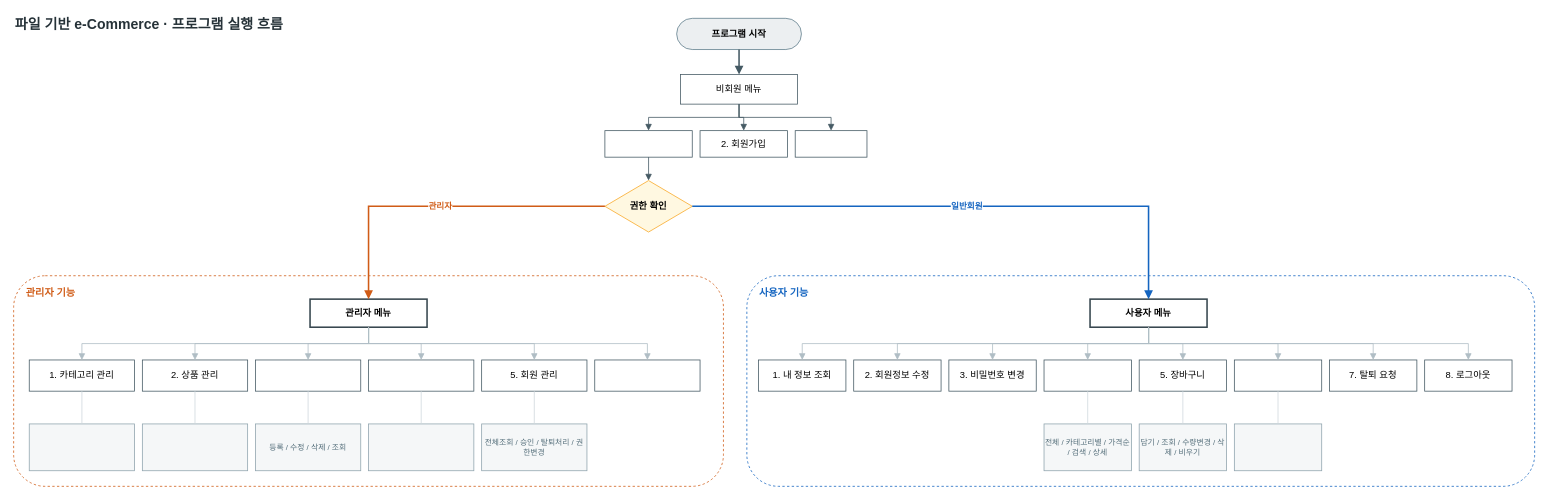
Image size: 1548x500. Some labels were removed from this diagram. Here are the shapes that lost their labels. From the top down, the centre of each, then its label:
At point (648, 143): "1. 로그인".
At point (830, 143): "0. 종료".
At point (308, 375): "3. 상품-카테고리 매핑".
At point (421, 375): "4. 주문 관리".
At point (647, 375): "6. 로그아웃".
At point (1087, 375): "4. 상품 보기".
At point (1278, 375): "6. 주문".
At point (81, 447): "조회 / 등록 / 수정 / 삭제".
At point (195, 447): "조회 / 상세 / 등록 / 수정 / 삭제 / 판매중지 / 재고".
At point (421, 447): "주문 조회 / 처리".
At point (1278, 447): "전체 / 선택 / 바로주문 / 목록 / 상세 / 취소".
